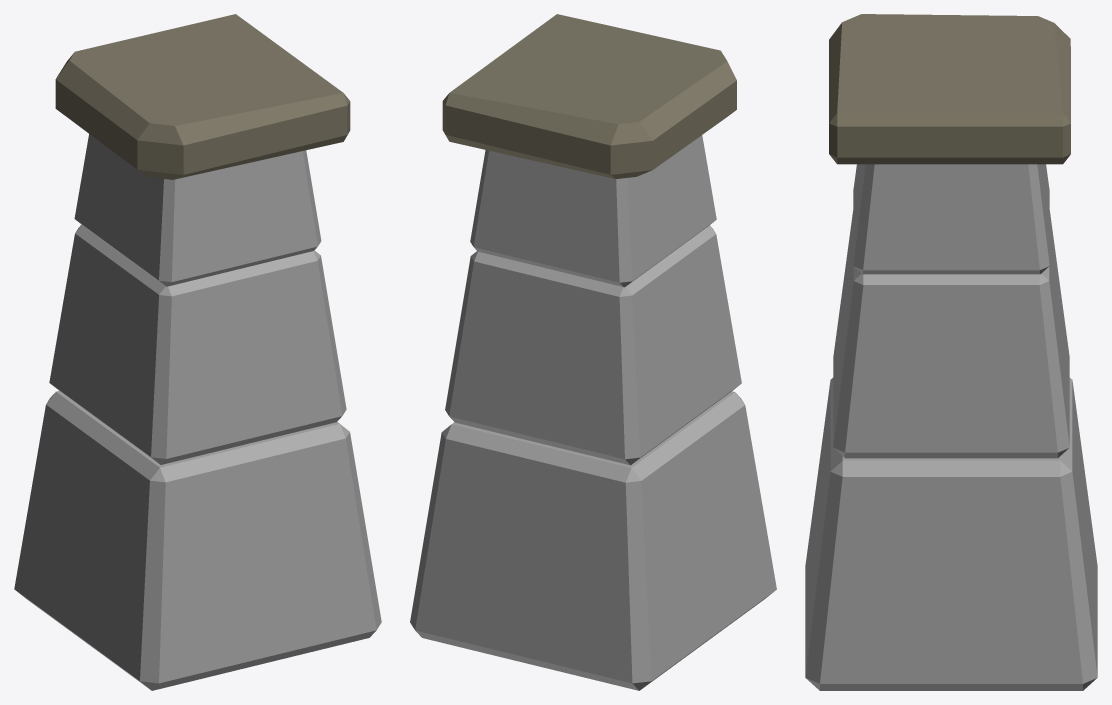
File: pillar.fbx
3 views of the same model, side by side, from view 1: azimuth 30°, elevation 25°; view 2: azimuth 150°, elevation 25°; view 3: azimuth 270°, elevation 25° (orthographic). The views are drawn at different scales.
Visible parts, largest first — view 1: Pillar1; view 2: Pillar1; view 3: Pillar1.
Boxes of the visible parts, x1,y1,x2,y2 form: Pillar1: (14, 14, 381, 690); Pillar1: (410, 14, 776, 690); Pillar1: (805, 14, 1097, 690).
Bounding box in the file's own units: 106 × 230 × 106.
